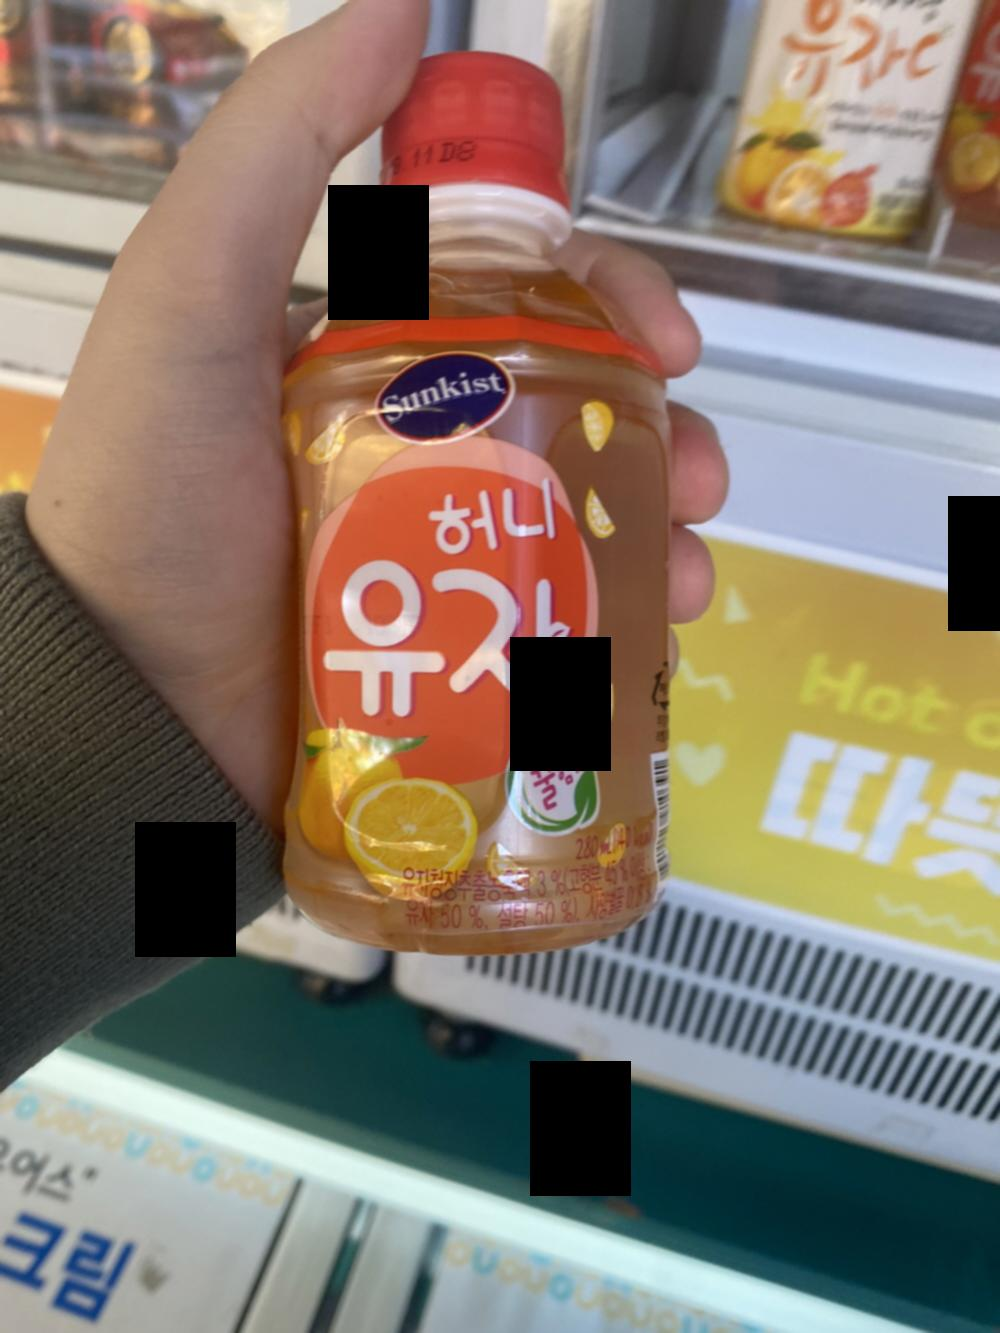honeyyuja: (275, 47, 688, 947)
